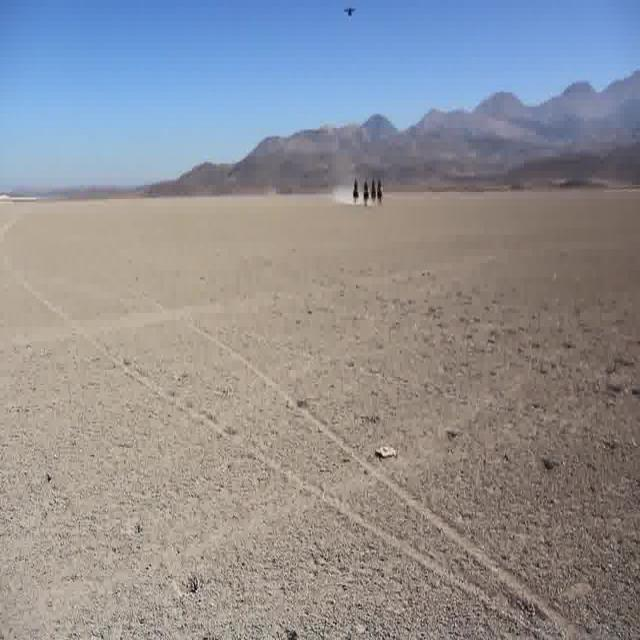drones: (338, 2, 363, 26)
